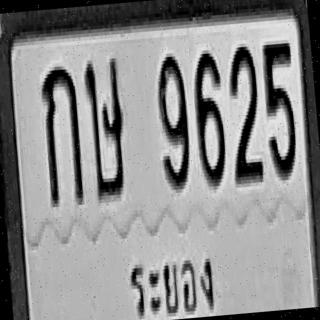A01: (38, 60, 85, 206)
A39: (82, 52, 130, 198)
N02: (224, 43, 264, 181)
N05: (260, 39, 301, 178)
N06: (190, 47, 228, 185)
N09: (153, 50, 193, 188)
P53: (120, 240, 222, 320)
